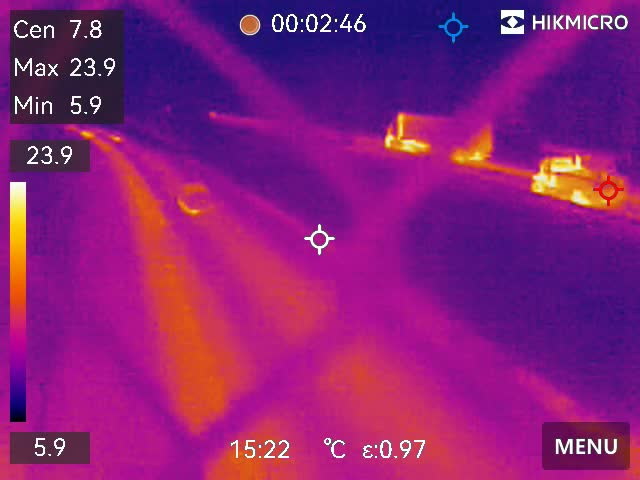heavyTruck: (380, 108, 500, 165), (534, 151, 630, 212)
